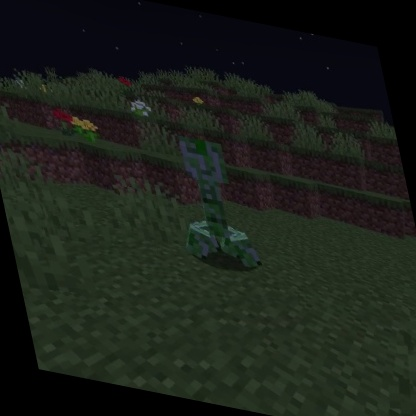creeper: (157, 127, 268, 279)
